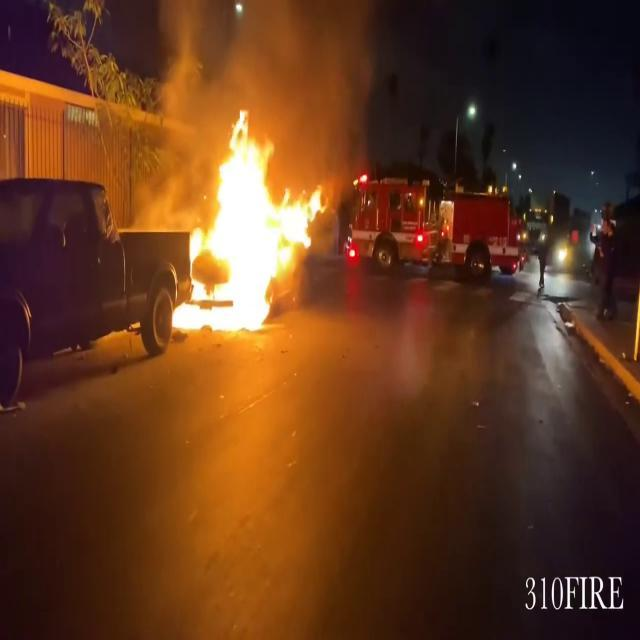Fire: (168, 106, 322, 340)
Smoke: (155, 0, 385, 158)
